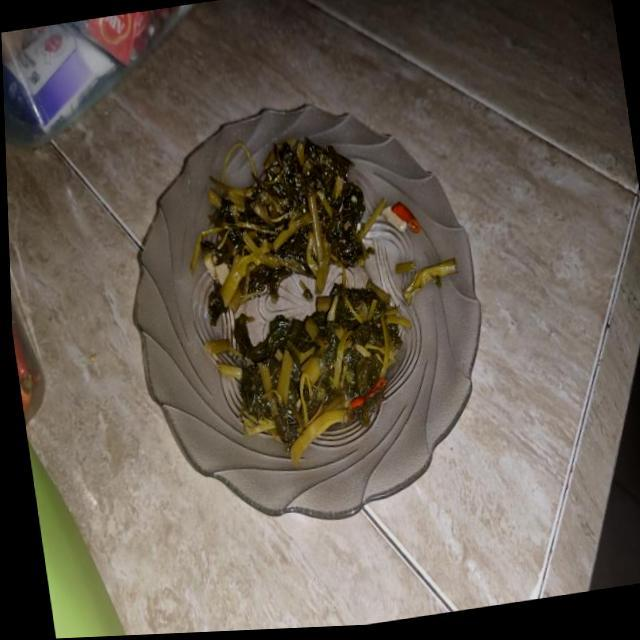tumis_kangkung: (205, 278, 410, 464), (190, 138, 385, 322)
